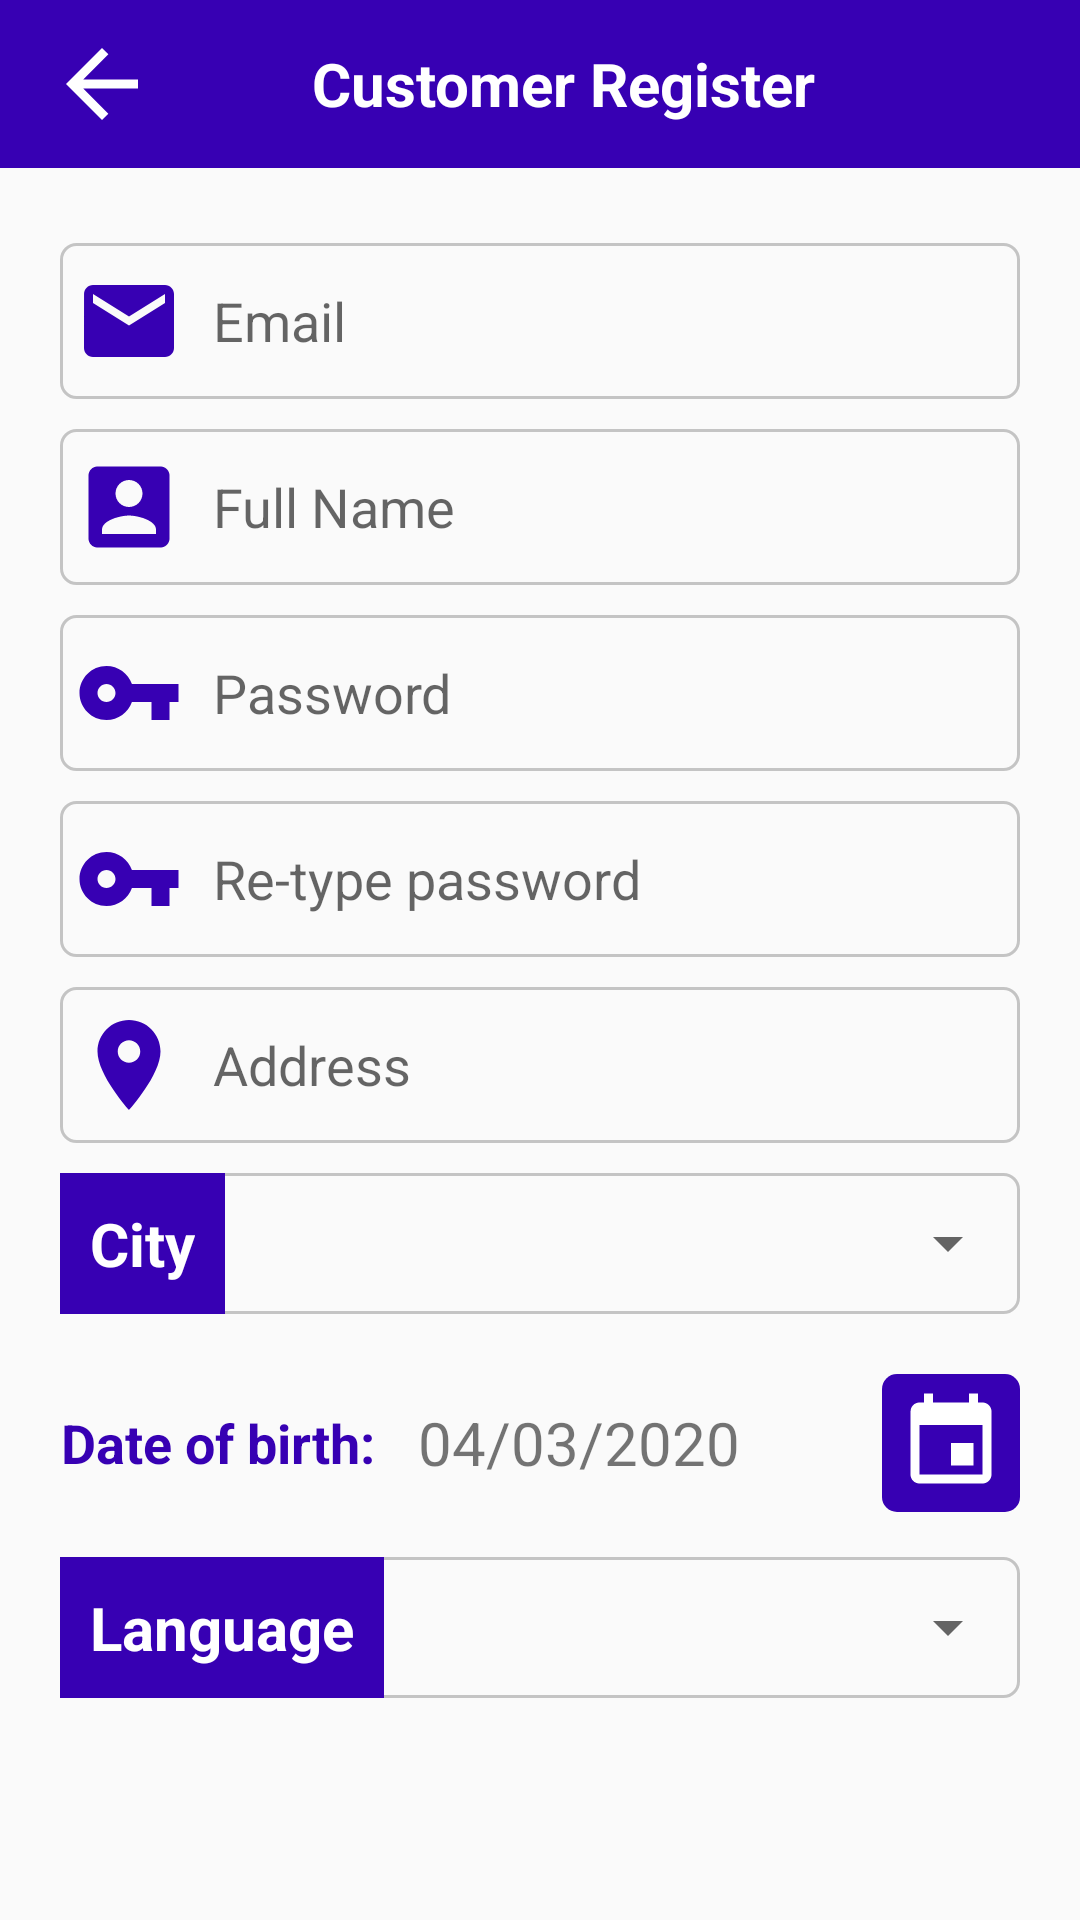

Screen size 1080*1920. Icon name, then its center in pixels as point (x, y):
back: point (102, 84)
insert invitation: point (951, 1443)
